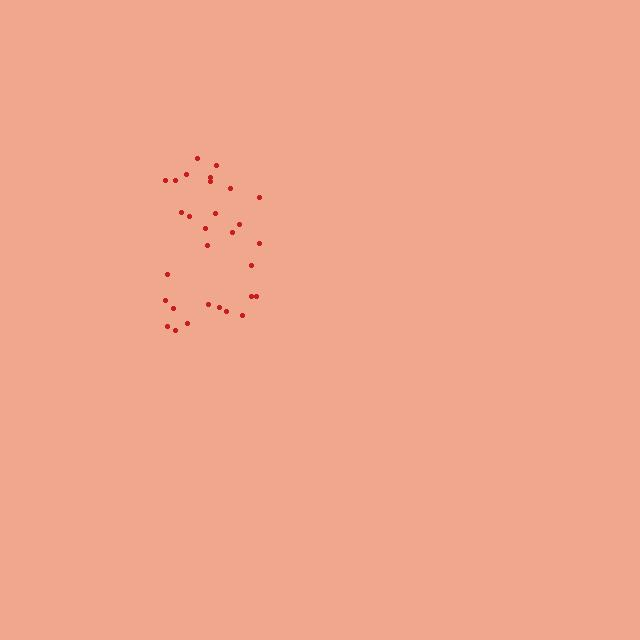abrasion: (162, 157, 259, 331)
